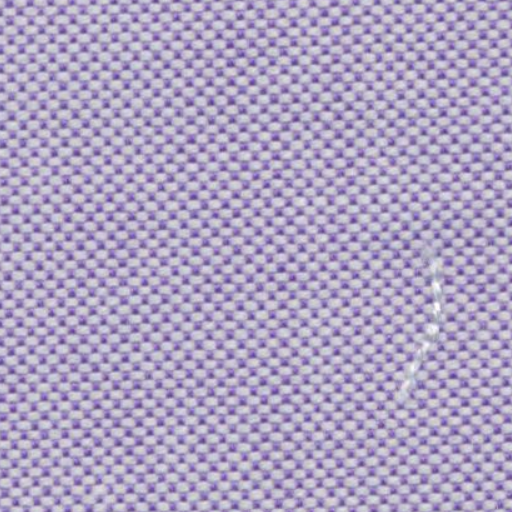DuanSha: (377, 242, 462, 406)
